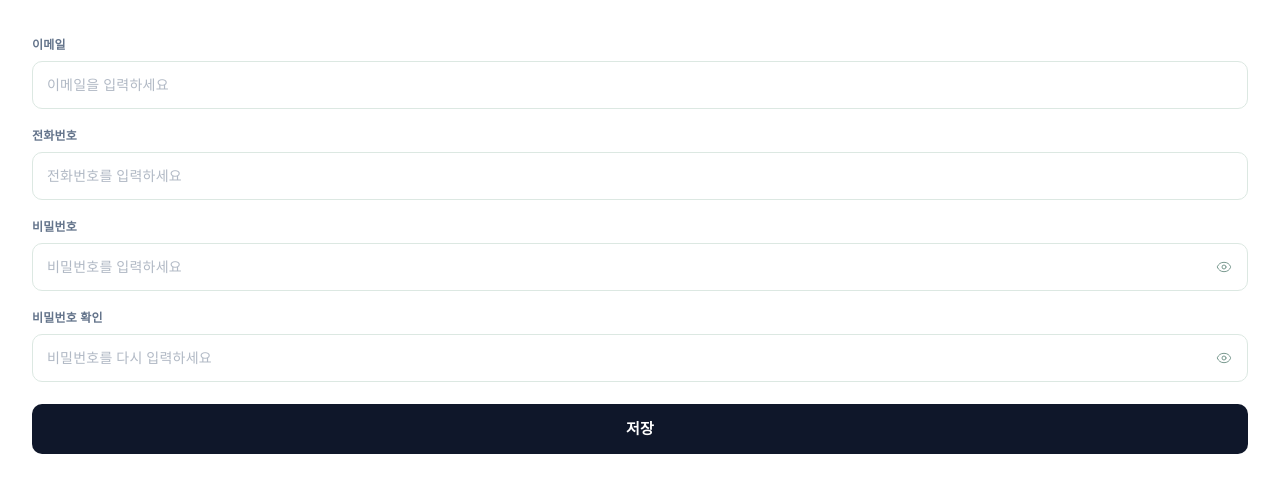
Test case: PasswordForm › 비밀번호와 비밀번호 확인이 일치하지 않으면 에러 메시지를 노출한다
Type "test@example.com" into the field labelled "이메일" at (640, 85), box [32, 61, 1248, 109]
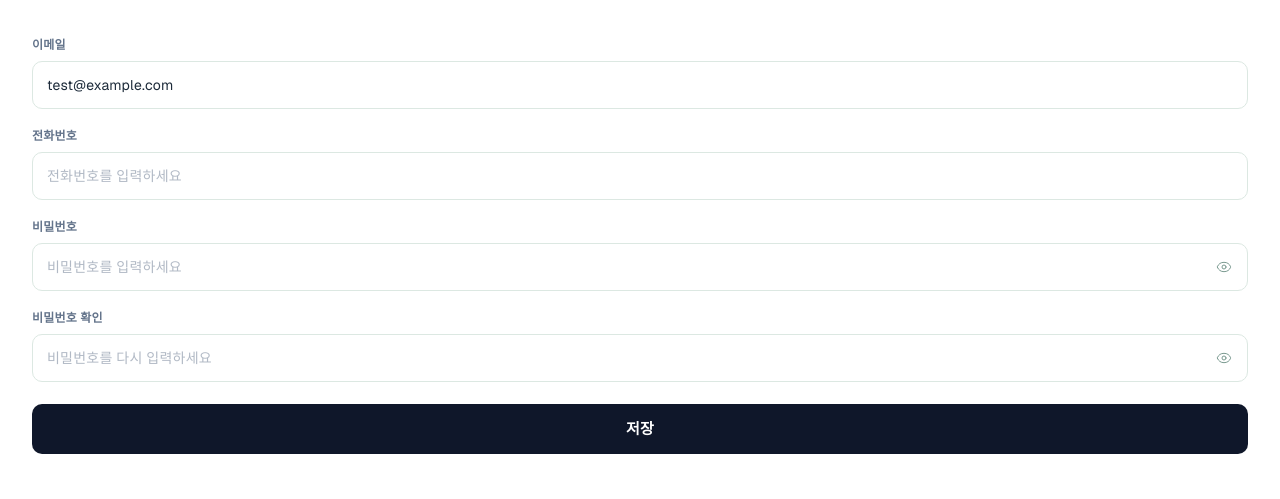
Type "010-1234-5678" into the field labelled "전화번호" at (640, 176), box [32, 152, 1248, 200]
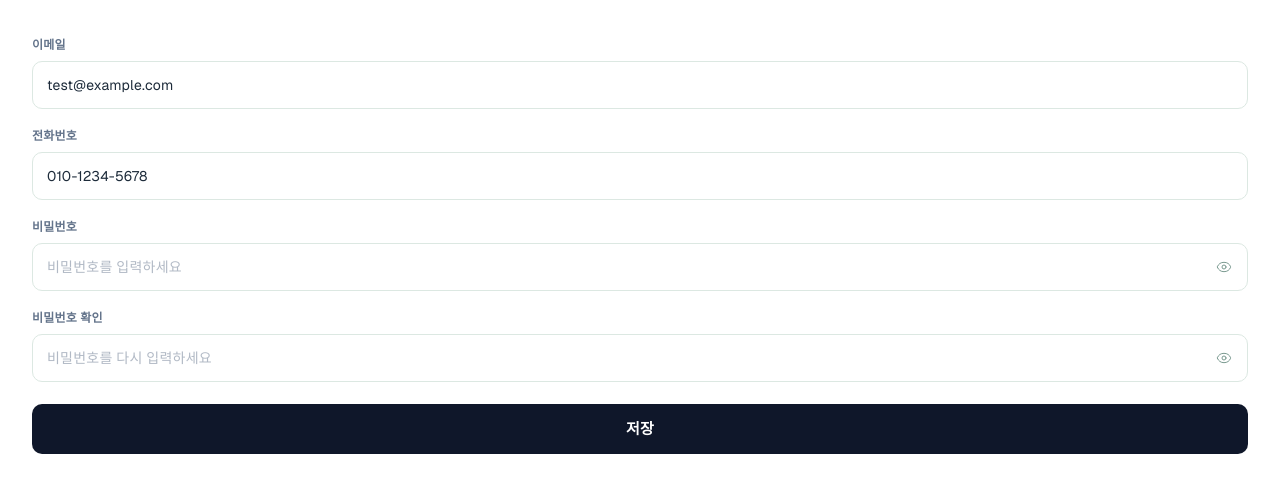
Type "password1234" into the password field labelled "비밀번호" at (640, 267), box [32, 243, 1248, 291]
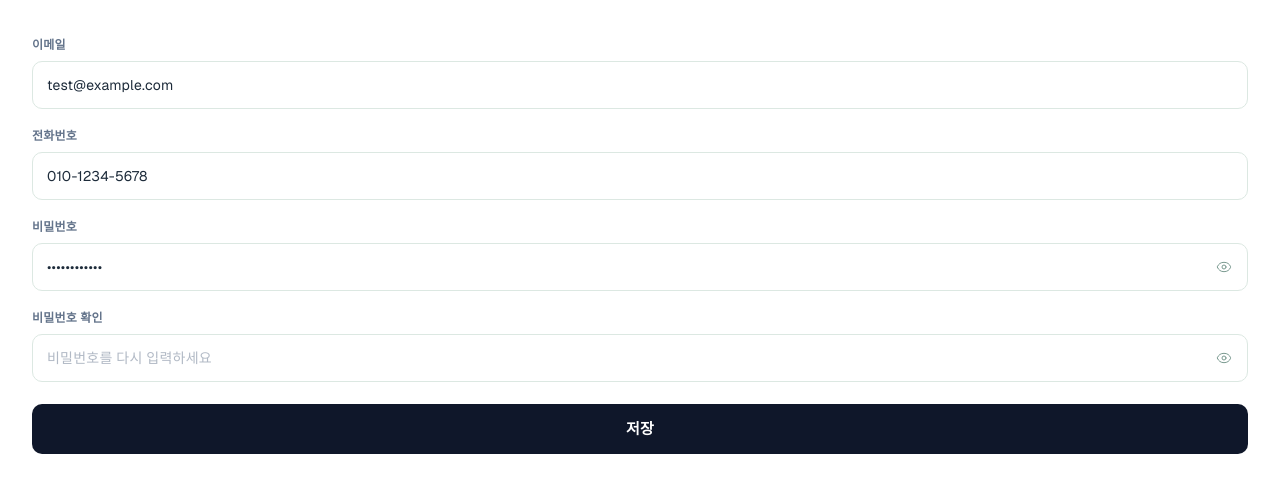
Type "differentPassword1" into the password field labelled "비밀번호 확인" at (640, 358), box [32, 334, 1248, 382]
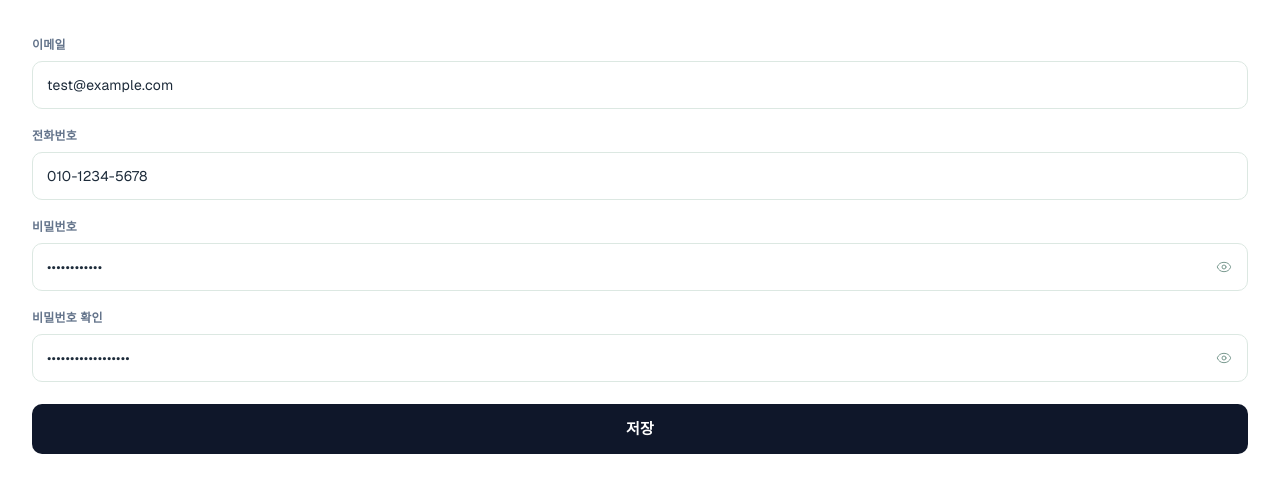
Submit the form "저장"
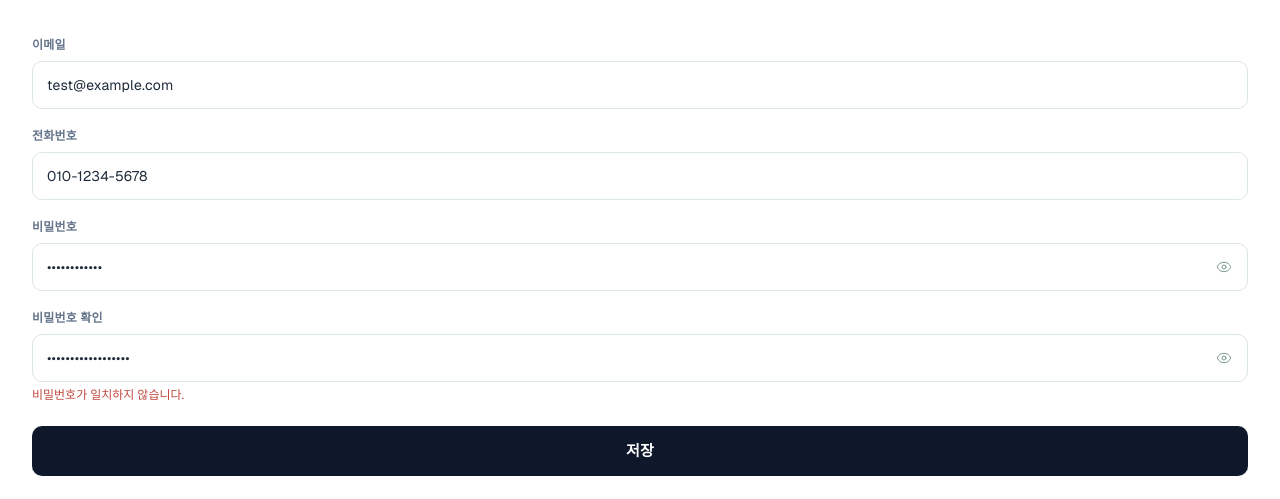
Now the text "비밀번호가 일치하지 않습니다." is shown, box [32, 387, 184, 403]
